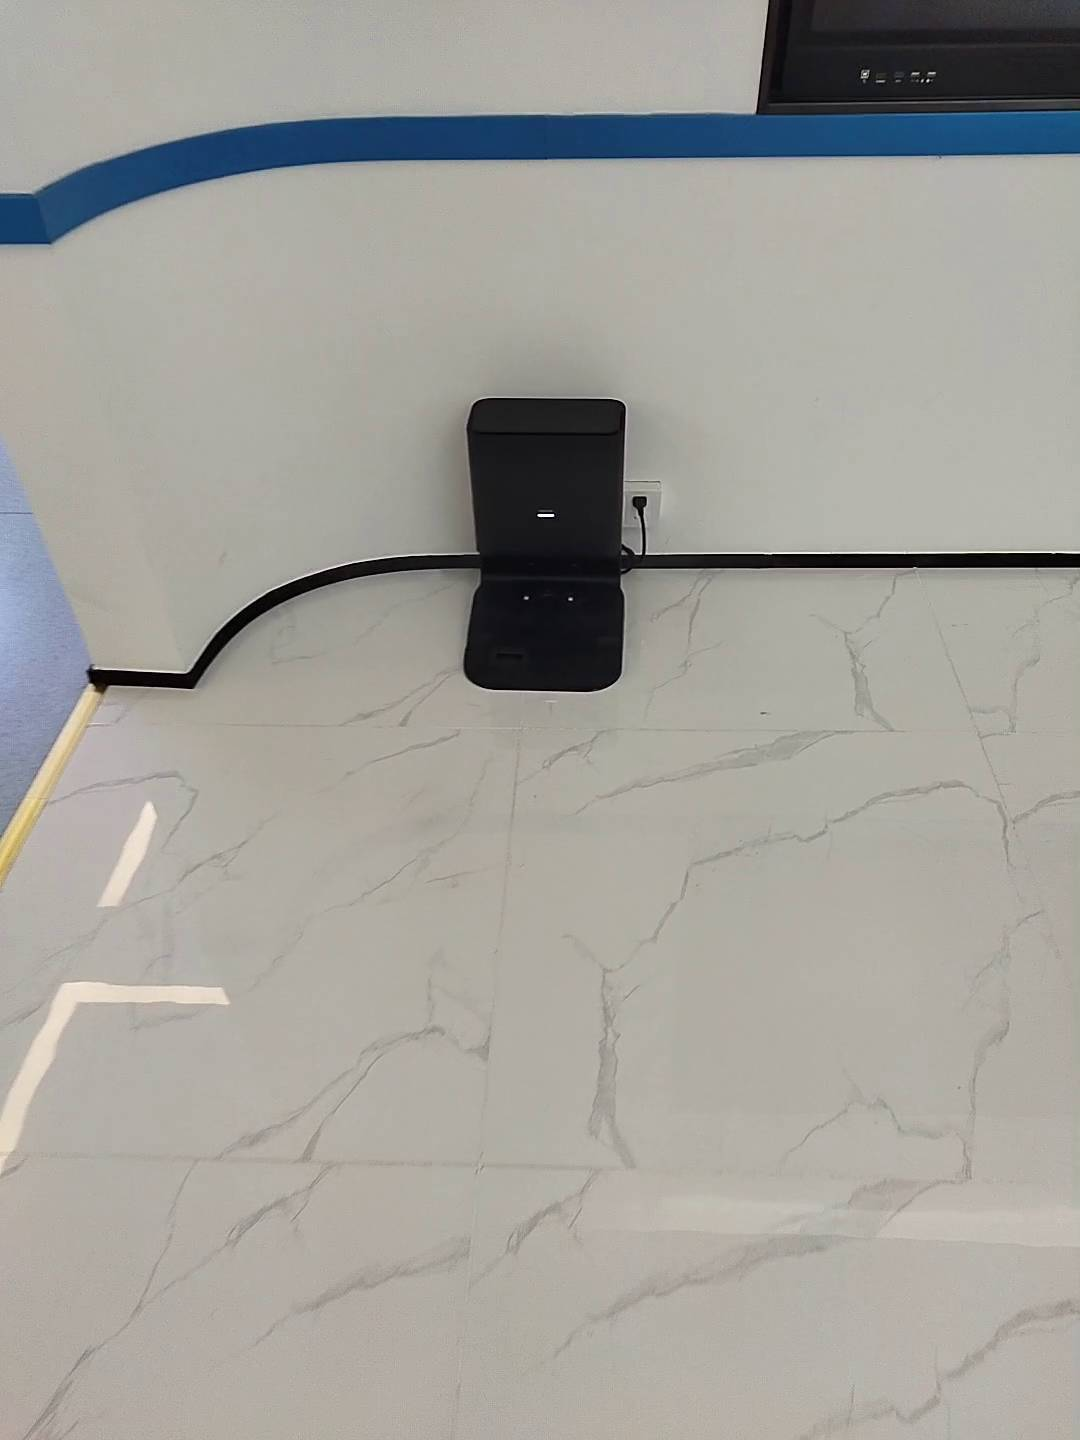dust collecting barrel: (464, 397, 626, 691)
